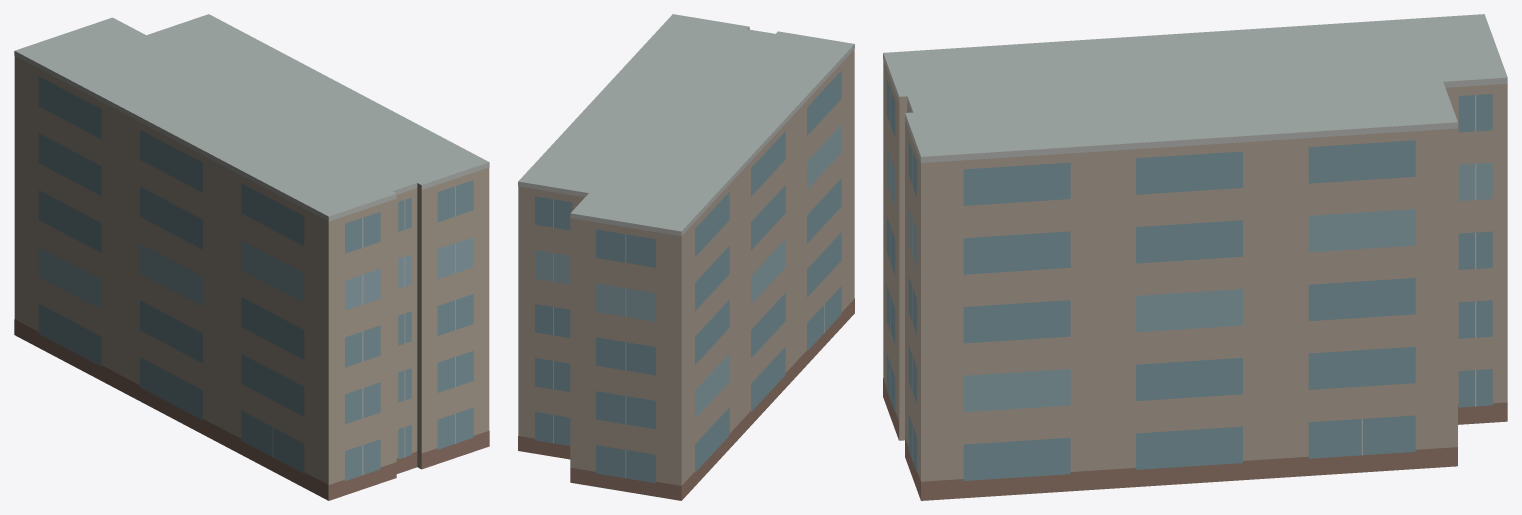
Rendered from survey-upis-32716247.glb.
3 renders of one model, left to right at view 1: azimuth 30°, elevation 25°; view 2: azimuth 150°, elevation 25°; view 3: azimuth 270°, elevation 25°, orthographic. The views are drawn at different scales.
Visible parts, largest first — view 1: survey-upis-32716247.tmp; view 2: survey-upis-32716247.tmp; view 3: survey-upis-32716247.tmp.
Boxes of the visible parts, x1,y1,x2,y2 form: survey-upis-32716247.tmp: [14, 14, 489, 500]; survey-upis-32716247.tmp: [518, 14, 854, 500]; survey-upis-32716247.tmp: [883, 14, 1507, 500].
Bounding box in the file's own units: 12.22 × 13.7 × 22.56.
